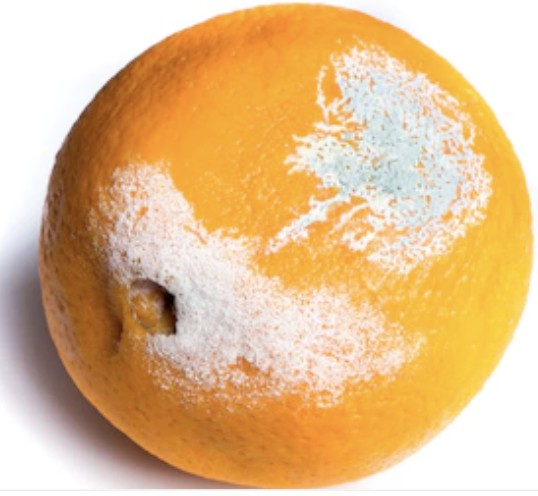rotten_orange: (40, 3, 534, 491)
